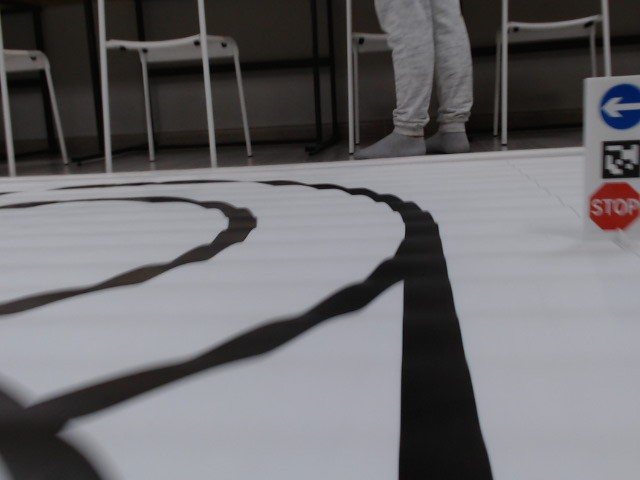Stop: (588, 181, 640, 231)
